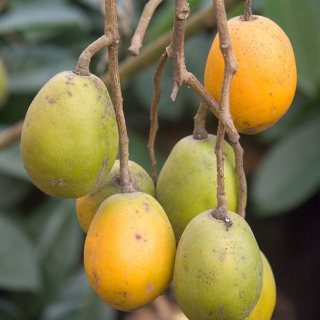coc: (21, 68, 118, 199), (84, 192, 173, 312)
